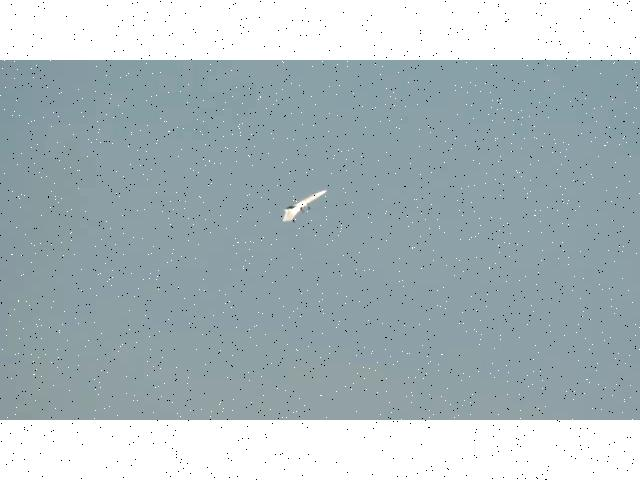Anti-Drone: (284, 190, 328, 223)
